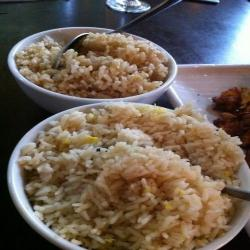rice: (28, 104, 242, 244), (18, 29, 170, 112)
